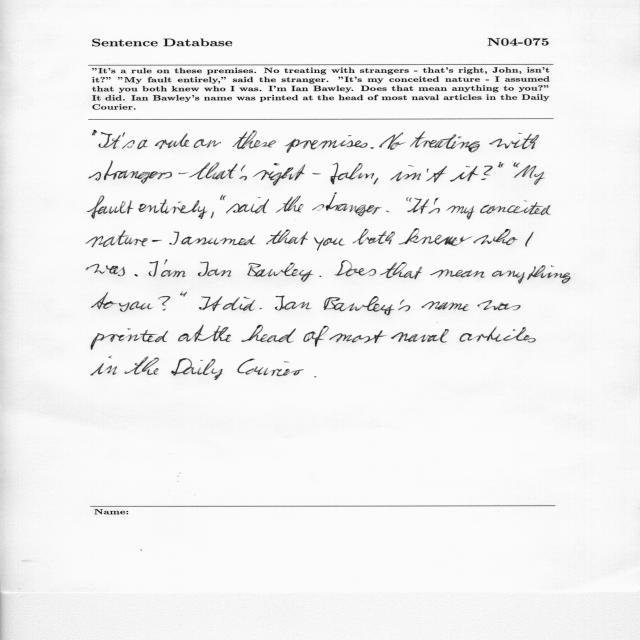word: (89, 161, 172, 184), (91, 328, 168, 350), (324, 296, 410, 315), (312, 193, 382, 216), (410, 131, 480, 153), (285, 135, 368, 153), (492, 266, 570, 284), (138, 199, 207, 219), (398, 228, 473, 246), (247, 262, 313, 282), (460, 326, 536, 343), (253, 163, 305, 186), (171, 358, 223, 380), (237, 359, 304, 376), (480, 200, 551, 215), (87, 196, 133, 219), (86, 230, 148, 247), (241, 325, 296, 343), (390, 165, 447, 182), (331, 163, 374, 184), (232, 130, 276, 149), (189, 163, 238, 180), (391, 329, 449, 343), (489, 133, 539, 149), (92, 292, 130, 312), (329, 330, 387, 343), (181, 236, 256, 246), (226, 197, 269, 214), (473, 229, 518, 245), (380, 262, 422, 279), (450, 166, 493, 182), (266, 229, 308, 245), (353, 229, 395, 245), (124, 356, 159, 375), (192, 325, 231, 342), (335, 260, 376, 276), (149, 260, 186, 277), (514, 165, 545, 185), (130, 296, 171, 311), (155, 133, 190, 149), (275, 296, 312, 311), (303, 326, 329, 347), (276, 195, 304, 213), (198, 262, 231, 277), (430, 269, 485, 278), (91, 356, 117, 375), (379, 132, 406, 150), (86, 264, 125, 276), (422, 301, 468, 311), (98, 132, 125, 149), (223, 297, 255, 311), (478, 300, 521, 310), (314, 238, 345, 251), (447, 206, 475, 220), (199, 296, 223, 311), (407, 198, 429, 214), (210, 195, 223, 218), (194, 139, 221, 148), (428, 198, 440, 214), (169, 231, 179, 245), (525, 232, 534, 247), (178, 333, 192, 342), (239, 166, 247, 181), (122, 140, 135, 149), (137, 140, 148, 149), (513, 162, 520, 168), (180, 292, 187, 297), (374, 178, 379, 184), (178, 173, 189, 175), (93, 130, 97, 135), (152, 240, 162, 242), (499, 162, 502, 168), (149, 271, 152, 276), (501, 163, 504, 167), (223, 196, 226, 200), (406, 197, 409, 201), (313, 173, 322, 174), (370, 147, 374, 149), (134, 274, 138, 276), (314, 376, 317, 378), (387, 211, 390, 212), (320, 276, 322, 277), (260, 308, 262, 309)
